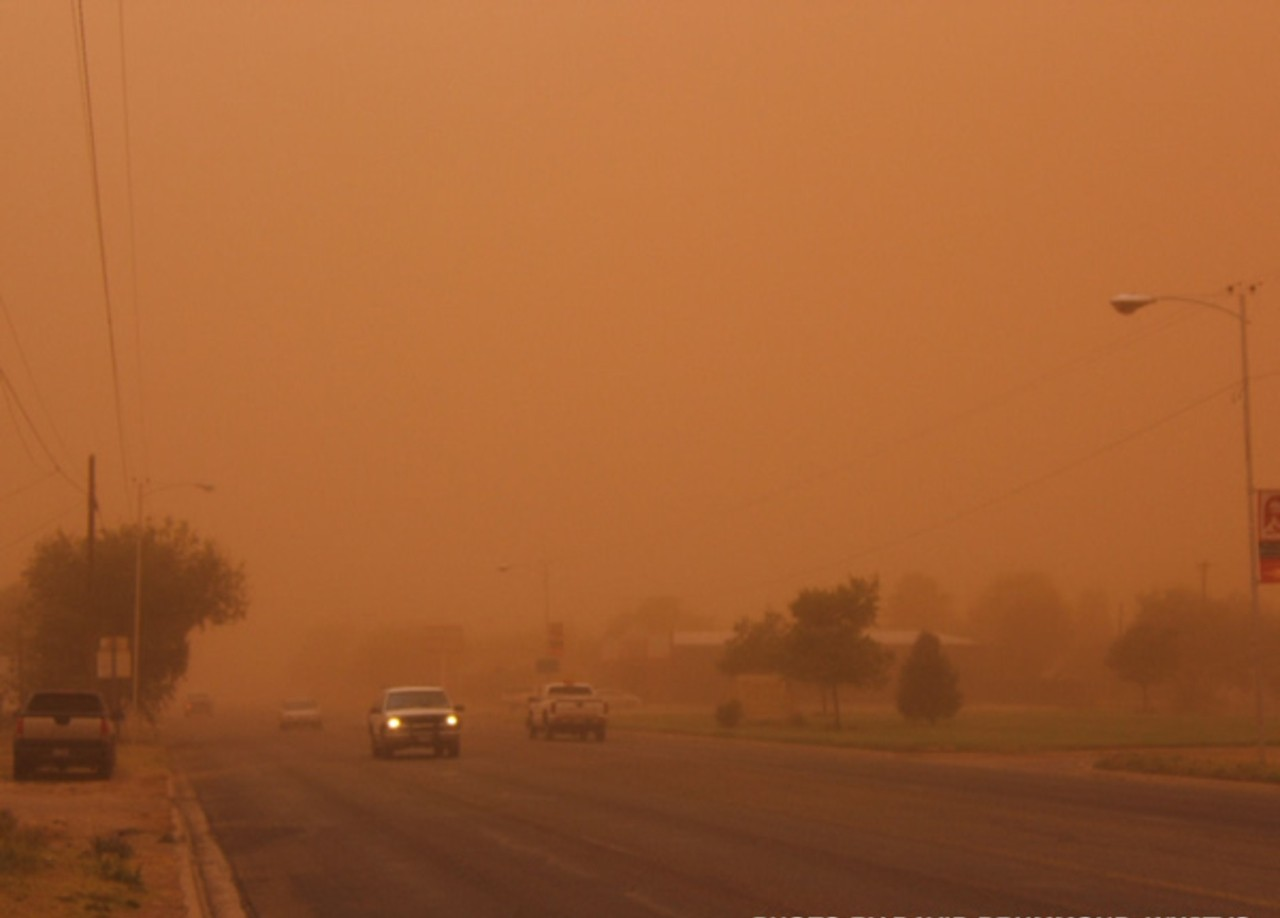car: (12, 691, 115, 781), (369, 685, 462, 758), (528, 682, 607, 742), (278, 701, 323, 733), (181, 693, 214, 719)
